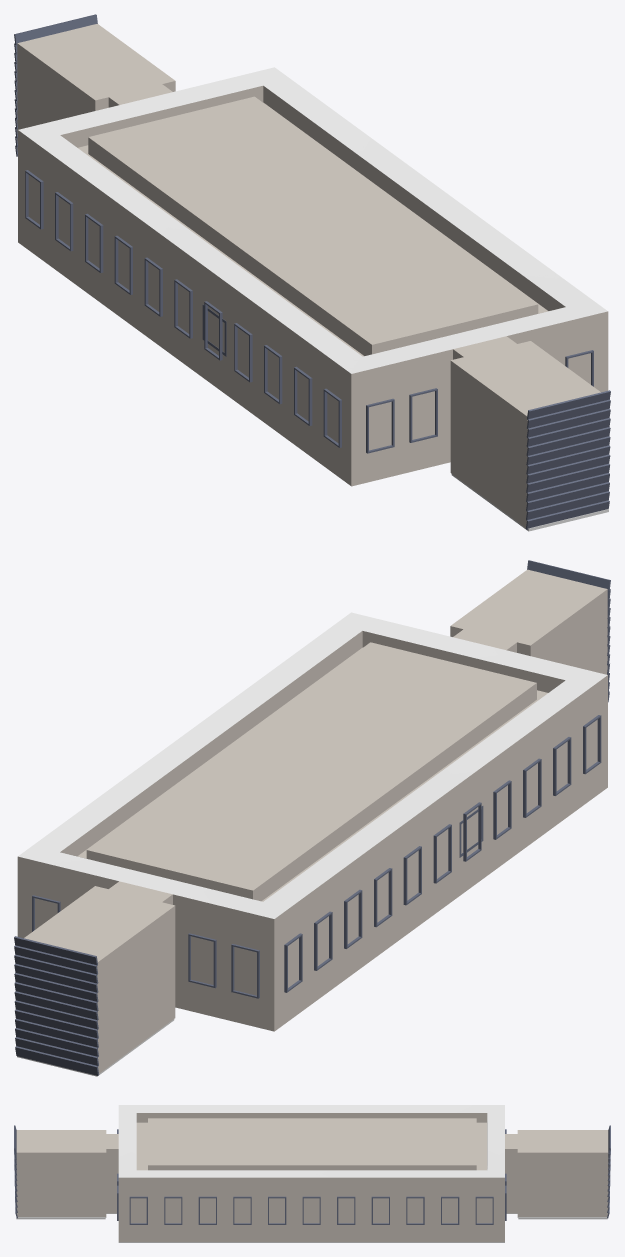
Rendered from cipal_test2.fbx.
3 views of the same model, one above another, from view 1: azimuth 30°, elevation 25°; view 2: azimuth 150°, elevation 25°; view 3: azimuth 270°, elevation 25° (orthographic). The views are drawn at different scales.
Visible parts, largest first — view 1: Group1871021937.002, Group1871021937, Cube.002, Cube.003; view 2: Group1871021937.002, Group1871021937, Cube.003, Cube.002; view 3: Group1871021937, Group1871021937.002, Group24, Cube, Cube.004, Cube.002, Cube.003.
Boxes of the visible parts, x1,y1,x2,y2 form: Group1871021937.002: (18,67,607,373); Group1871021937: (17,23,608,527); Cube.002: (525,390,610,529); Cube.003: (14,14,97,156); Group1871021937.002: (18,612,607,918); Group1871021937: (17,569,607,1073); Cube.003: (14,936,98,1075); Cube.002: (527,560,610,702); Group1871021937: (16,1130,608,1241); Group1871021937.002: (118,1105,504,1177); Group24: (18,1169,606,1242); Cube: (518,1217,607,1219); Cube.004: (16,1217,105,1219); Cube.002: (14,1125,17,1218); Cube.003: (607,1125,610,1218).
Size of the model in its own units: 979 by 437 by 3338.
